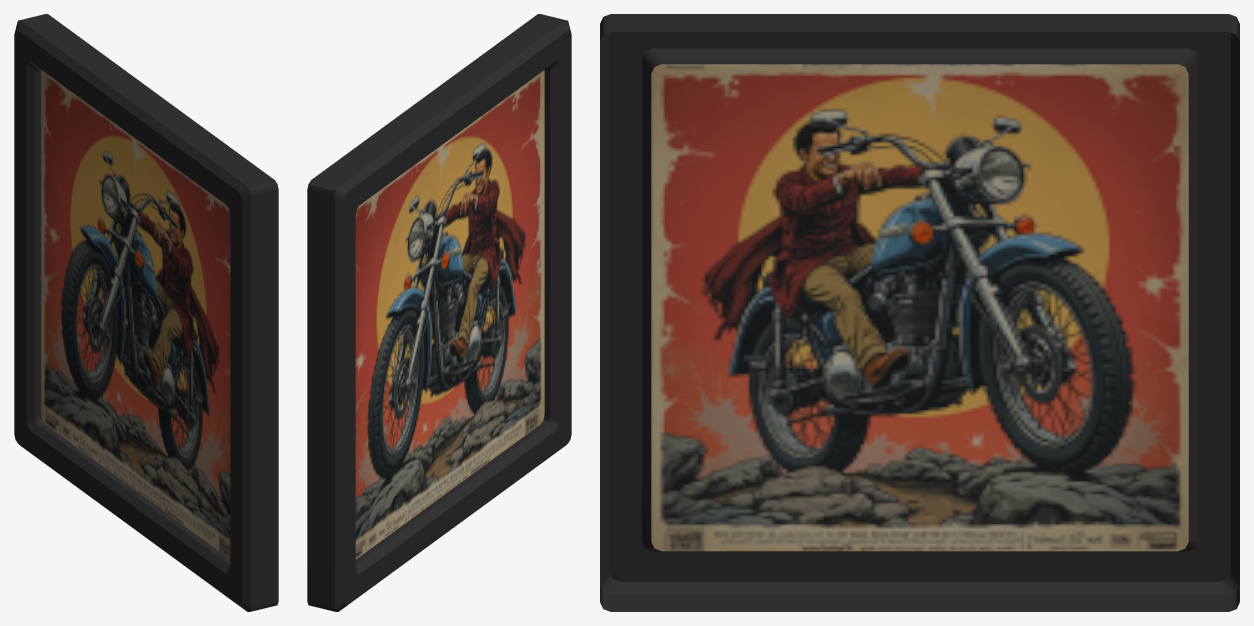
Rendered from SM_Frame1.fbx.
3 views of the same model, side by side, from view 1: azimuth 30°, elevation 25°; view 2: azimuth 150°, elevation 25°; view 3: azimuth 270°, elevation 25° (orthographic). The views are drawn at different scales.
Parts seen in each view (by area): view 1: SM_Frame1_LOD0; view 2: SM_Frame1_LOD0; view 3: SM_Frame1_LOD0.
Part boxes in pixels (bbox=[...]): SM_Frame1_LOD0: bbox=[14, 14, 278, 611]; SM_Frame1_LOD0: bbox=[307, 14, 571, 611]; SM_Frame1_LOD0: bbox=[600, 14, 1239, 611].
Bounding box in the file's own units: 4.08 × 50 × 50.
Materials: 1 (1 with a texture image).
